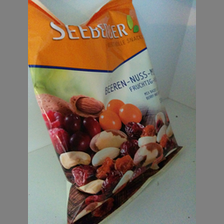nuts: (28, 1, 182, 224)
